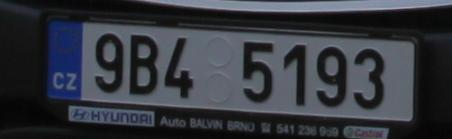1: (285, 44, 306, 106)
3: (353, 49, 384, 110)
4: (165, 38, 194, 99)
5: (243, 43, 274, 102)
9: (316, 47, 346, 107), (94, 33, 122, 93)
B: (129, 34, 157, 95)
